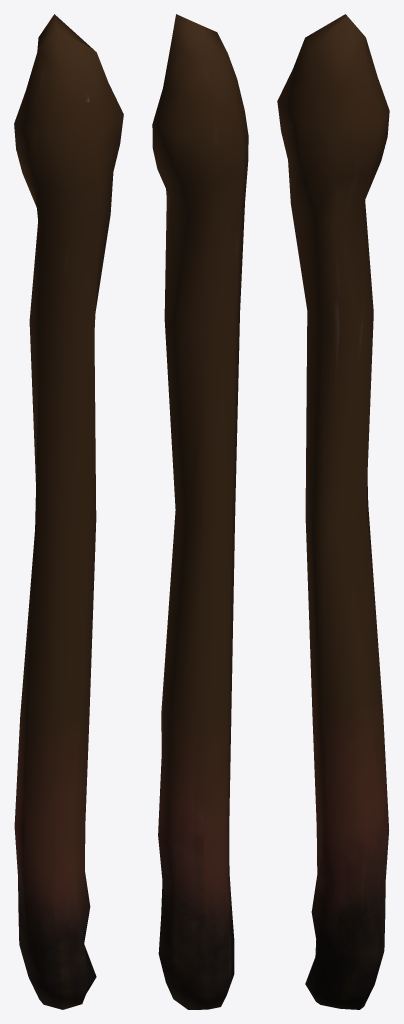
The model's file is staff.dae.
The picture shows the model from 3 angles, left to right: view 1: azimuth 90°, elevation 25°; view 2: azimuth 150°, elevation 25°; view 3: azimuth 270°, elevation 25°; orthographic projection. The views are drawn at different scales.
Visible parts, largest first — view 1: Cube; view 2: Cube; view 3: Cube.
Boxes of the visible parts, x1=… form: Cube: x1=14, y1=14, x2=123, y2=1009; Cube: x1=152, y1=14, x2=248, y2=1009; Cube: x1=277, y1=14, x2=389, y2=1009.
Bounding box in the file's own units: 0.2446 × 0.2877 × 2.82.
1 material, 1 textured.
